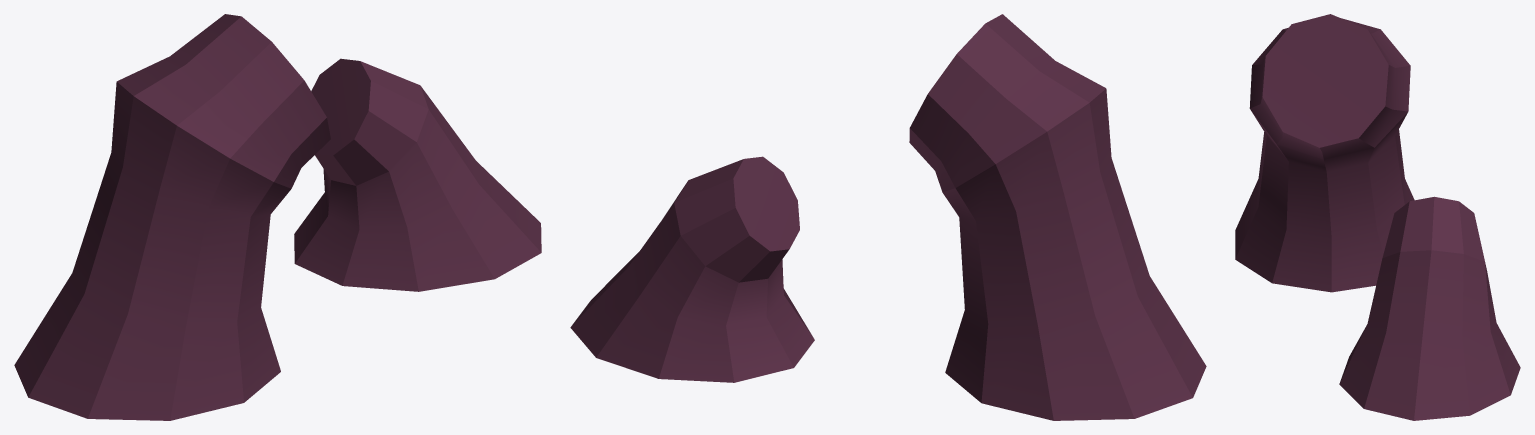
Rendered from ArbreMere_Souche01.fbx.
The picture shows the model from 3 angles, left to right: view 1: azimuth 30°, elevation 25°; view 2: azimuth 150°, elevation 25°; view 3: azimuth 270°, elevation 25°; orthographic projection. The views are drawn at different scales.
Visible parts, largest first — view 1: ArbreMere_Souche01; view 2: ArbreMere_Souche01; view 3: ArbreMere_Souche01.
Boxes of the visible parts, x1=… form: ArbreMere_Souche01: x1=14, y1=14, x2=541, y2=420; ArbreMere_Souche01: x1=570, y1=14, x2=1206, y2=420; ArbreMere_Souche01: x1=1235, y1=14, x2=1520, y2=420.
Bounding box in the file's own units: 339 × 190 × 183.
